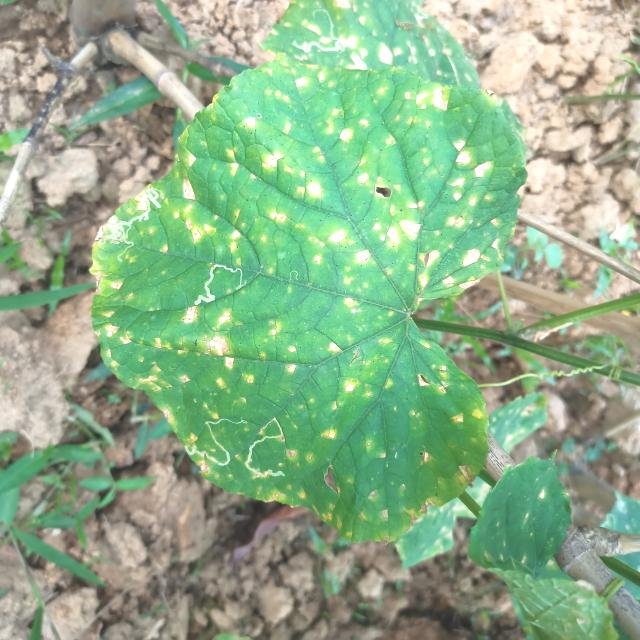disease_cucumber: (97, 72, 501, 522)
